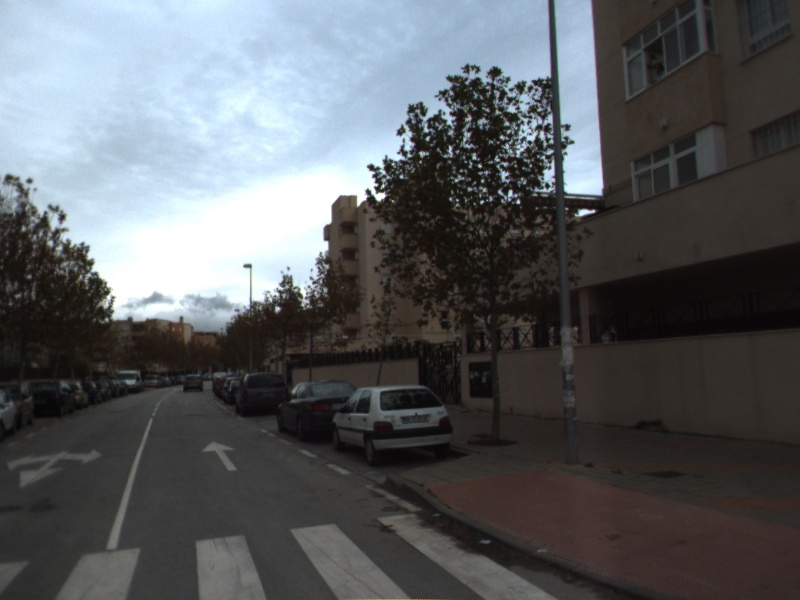STRAIGHT: (200, 439, 240, 473)
